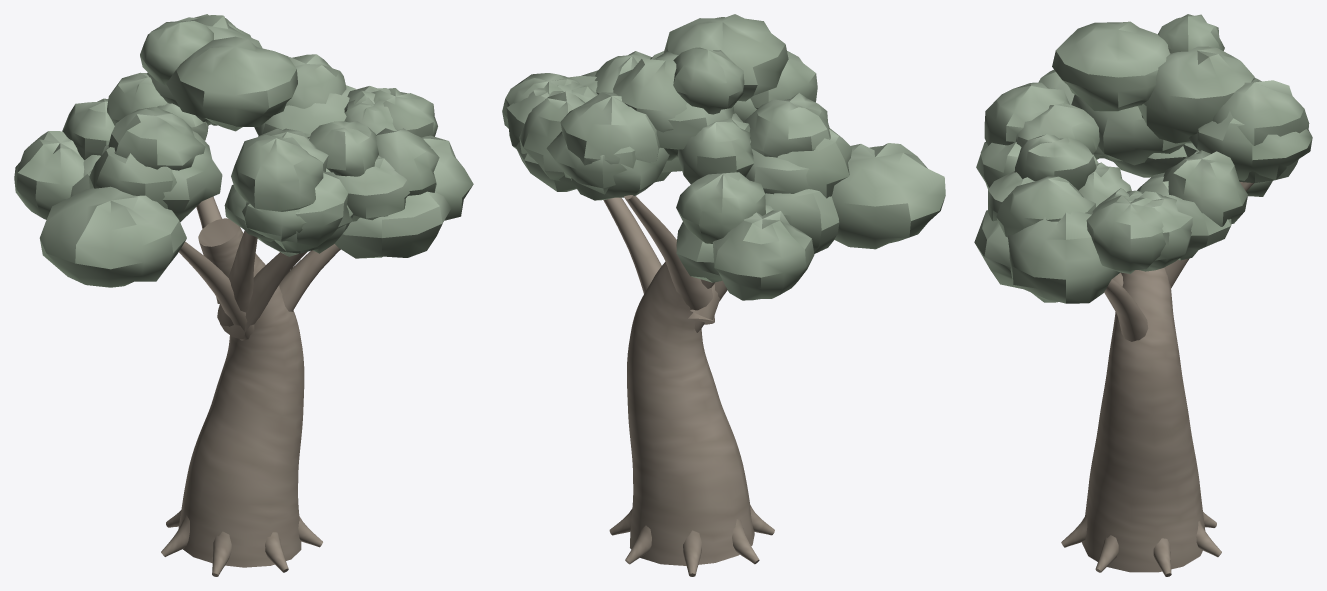
File: tree.glb
3 views of the same model, side by side, from view 1: azimuth 30°, elevation 25°; view 2: azimuth 150°, elevation 25°; view 3: azimuth 270°, elevation 25° (orthographic).
Parts seen in each view (by area): view 1: Leaves, Wood; view 2: Leaves, Wood; view 3: Leaves, Wood.
Boxes of the visible parts, box(x1,y1,x2,y2) form: Leaves: box(14, 14, 473, 287); Wood: box(161, 196, 340, 576); Leaves: box(502, 14, 945, 300); Wood: box(603, 195, 774, 576); Leaves: box(974, 14, 1312, 303); Wood: box(1061, 182, 1253, 576).
Bounding box in the file's own units: 9.74 × 11.8 × 7.06.
